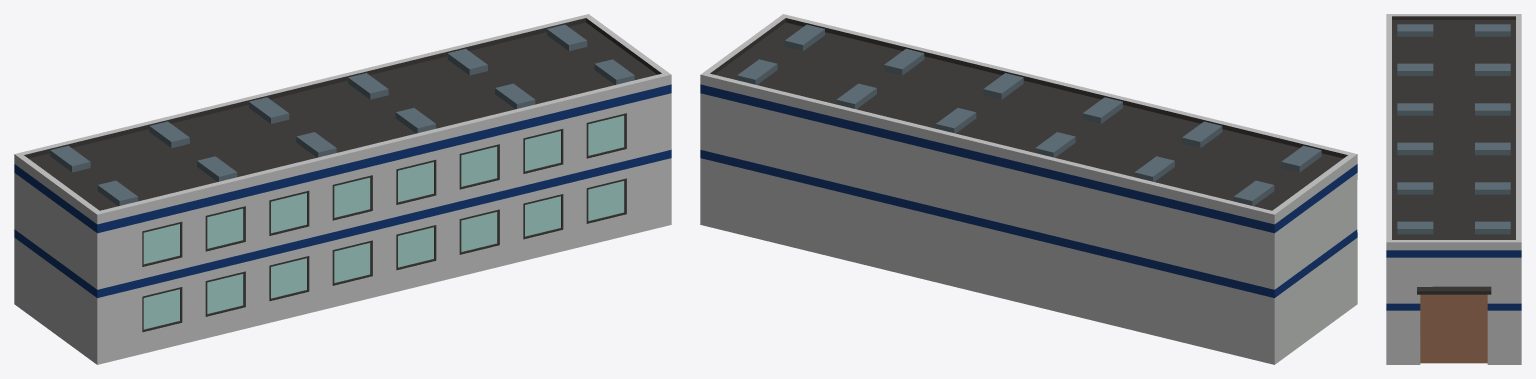
The model's file is SM_Factory_Storage_room.glb.
The picture shows the model from 3 angles, left to right: view 1: azimuth 30°, elevation 25°; view 2: azimuth 150°, elevation 25°; view 3: azimuth 270°, elevation 25°; orthographic projection. The views are drawn at different scales.
Parts seen in each view (by area): view 1: SM_Factory_Storage_room; view 2: SM_Factory_Storage_room; view 3: SM_Factory_Storage_room.
Boxes of the visible parts, x1=… form: SM_Factory_Storage_room: x1=14, y1=14, x2=671, y2=364; SM_Factory_Storage_room: x1=700, y1=14, x2=1357, y2=364; SM_Factory_Storage_room: x1=1386, y1=14, x2=1521, y2=364.
Bounding box in the file's own units: 20.41 × 5.06 × 5.
1 material, 1 textured.
